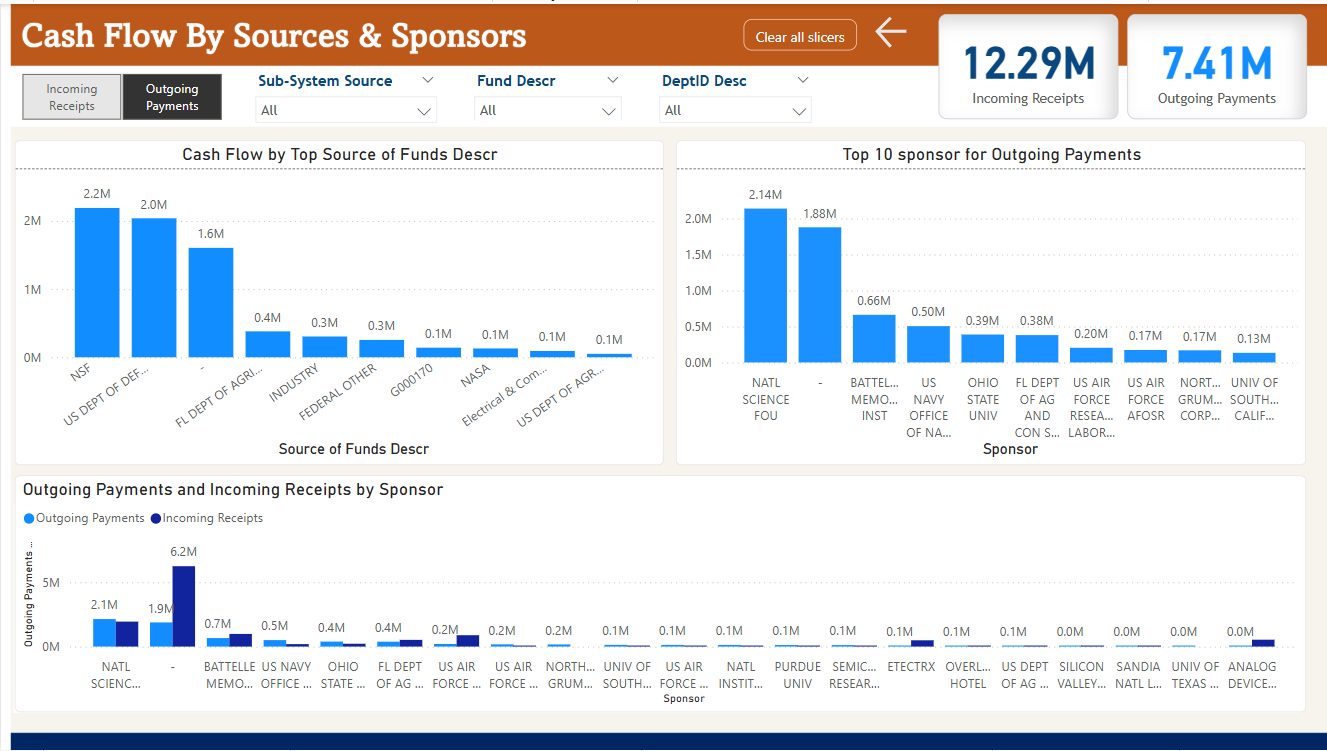

The page's visual inventory and layout, read from the dashboard file:
{"tool":"powerbi","page":{"name":"Outgoing Payments by Sources and Sponsors","canvas":[1280,720],"ordinal":6},"visuals":[{"type":"slicer","fields":{"Values":["Comprehensive_Table.Fund Descr"]},"box":[446.5,59.8,162.6,51.7],"z":0},{"type":"slicer","fields":{"Values":["Comprehensive_Table.DeptID Desc"]},"box":[625,59.8,167.9,54.9],"z":1000},{"type":"clusteredColumnChart","title":"Cash Flow by  Top Source of Funds Descr","fields":{"Category":["Comprehensive_Table.Source of Funds Descr"],"Y":["Measure.Cash Flow Measure selector"]},"box":[13.7,132,626.3,313.7],"z":2000},{"type":"clusteredColumnChart","fields":{"Category":["Comprehensive_Table.Sponsor"],"Y":["Measure.Cash Flow Measure selector"]},"box":[651.6,132,608.3,313.7],"z":3000},{"type":"slicer","fields":{"Values":["Comprehensive_Table.Sub-System Source"]},"box":[235.3,59.8,195.4,54.9],"z":4000},{"type":"textbox","box":[12.1,482.6,1241.4,201.5],"z":6000},{"type":"clusteredColumnChart","fields":{"Category":["Comprehensive_Table.Sponsor"],"Y":["Measure.Outgoing Payments","Measure.Incoming Receipts"]},"box":[13.7,455.2,1246.2,229.2],"z":7000},{"type":"actionButton","box":[839.6,7.4,48.6,40.1],"z":8000},{"type":"actionButton","box":[716,14.8,109.8,30.6],"z":9000},{"type":"slicer","title":"cash flow ","fields":{"Values":["Cash Flow Slicer.Cash Flow Slicer"]},"box":[0,64.8,231.7,48],"z":10000},{"type":"card","fields":{"Values":[" Measures.Incoming Receipts"]},"box":[905.2,9.4,173.6,101.8],"z":11000},{"type":"card","fields":{"Values":[" Measures.Outgoing Payments"]},"box":[1087.1,9.4,173.6,101.8],"z":12000}]}

Visuals, with their boxes in screenshot pixels (x1, y1, x2, y2), scaled from the page's 1280x720 canvas onto the 1327x751 screenshot:
slicer - Comprehensive_Table.Fund Descr: bbox(463, 62, 631, 116)
slicer - Comprehensive_Table.DeptID Desc: bbox(648, 62, 822, 120)
"Cash Flow by  Top Source of Funds Descr" clusteredColumnChart: bbox(14, 138, 664, 465)
clusteredColumnChart - Comprehensive_Table.Sponsor x Measure.Cash Flow Measure selector: bbox(676, 138, 1306, 465)
slicer - Comprehensive_Table.Sub-System Source: bbox(244, 62, 447, 120)
textbox: bbox(13, 503, 1300, 714)
clusteredColumnChart - Comprehensive_Table.Sponsor x Measure.Outgoing Payments: bbox(14, 475, 1306, 714)
actionButton: bbox(870, 8, 921, 50)
actionButton: bbox(742, 15, 856, 47)
"cash flow " slicer: bbox(0, 68, 240, 118)
card -  Measures.Incoming Receipts: bbox(938, 10, 1118, 116)
card -  Measures.Outgoing Payments: bbox(1127, 10, 1307, 116)
